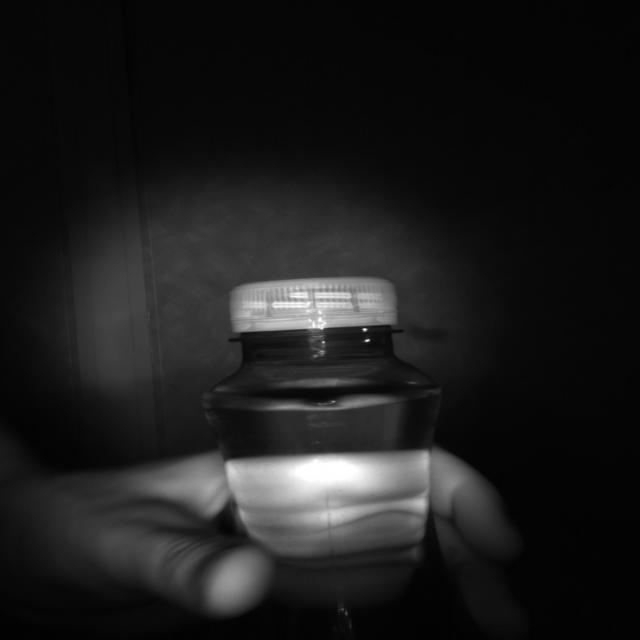Good: (228, 274, 402, 336)
